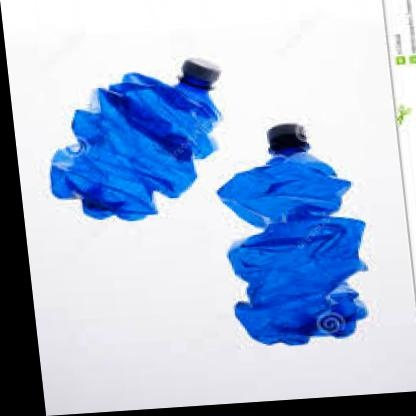trash: (218, 123, 366, 344), (51, 59, 219, 219)
